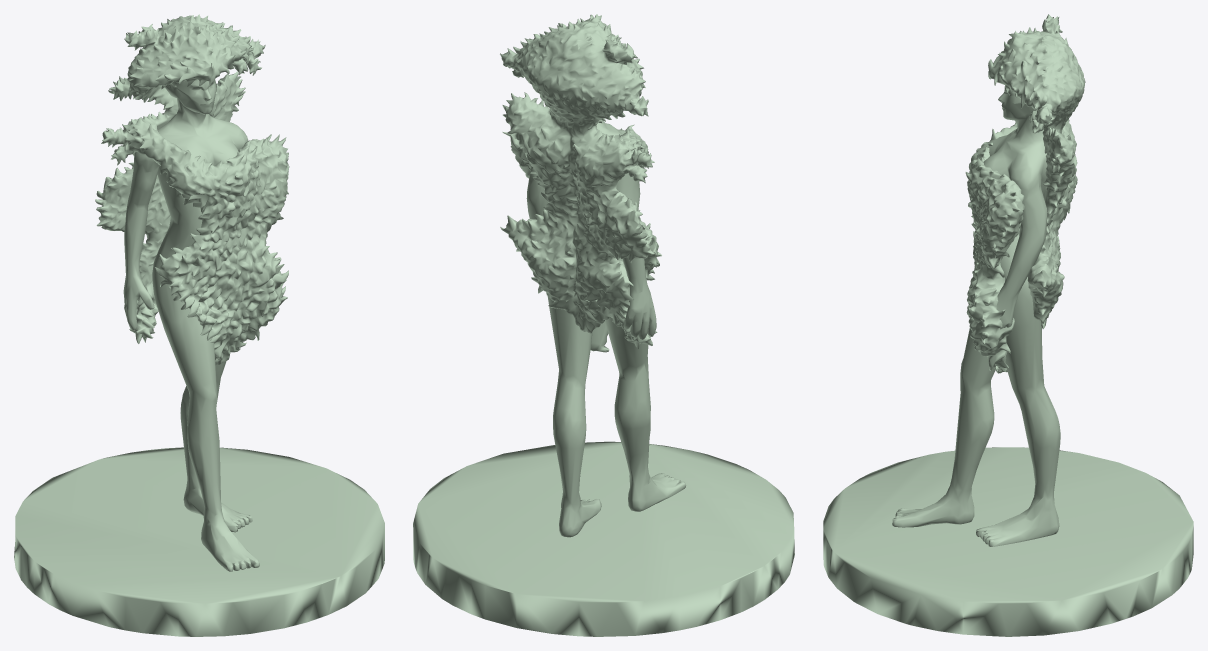
Rendered from forest-spirit.glb.
3 views of the same model, side by side, from view 1: azimuth 30°, elevation 25°; view 2: azimuth 150°, elevation 25°; view 3: azimuth 270°, elevation 25° (orthographic). The views are drawn at different scales.
Visible parts, largest first — view 1: forest-spirit; view 2: forest-spirit; view 3: forest-spirit.
Boxes of the visible parts, bbox=[...] form: forest-spirit: bbox=[14, 14, 384, 636]; forest-spirit: bbox=[413, 14, 794, 636]; forest-spirit: bbox=[823, 14, 1193, 636].
Bounding box in the file's own units: 25.23 × 39.74 × 25.23.
